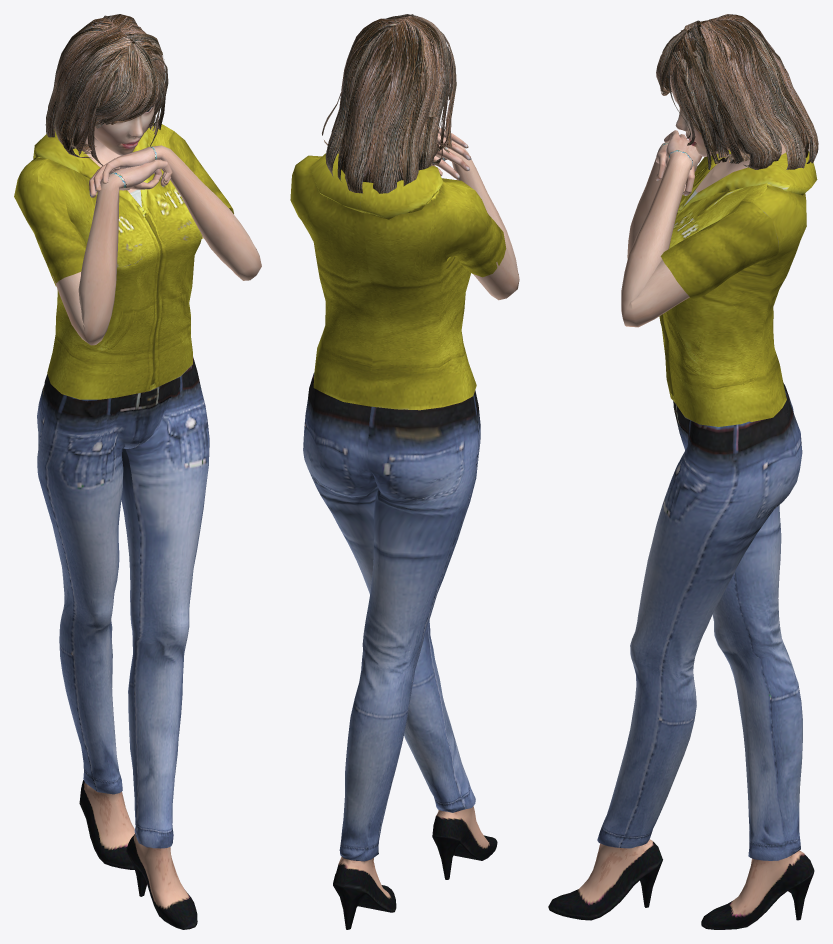
The model's file is woman5.fbx.
3 renders of one model, left to right at view 1: azimuth 30°, elevation 25°; view 2: azimuth 150°, elevation 25°; view 3: azimuth 270°, elevation 25°, orthographic. The views are drawn at different scales.
Parts seen in each view (by area): view 1: Female3_5; view 2: Female3_5; view 3: Female3_5.
Part boxes in pixels (box(x1,y1,x2,y2)): Female3_5: box(14, 14, 261, 929); Female3_5: box(290, 14, 519, 929); Female3_5: box(548, 14, 818, 929).
Size of the model in its own units: 4015 by 17439 by 4772.
